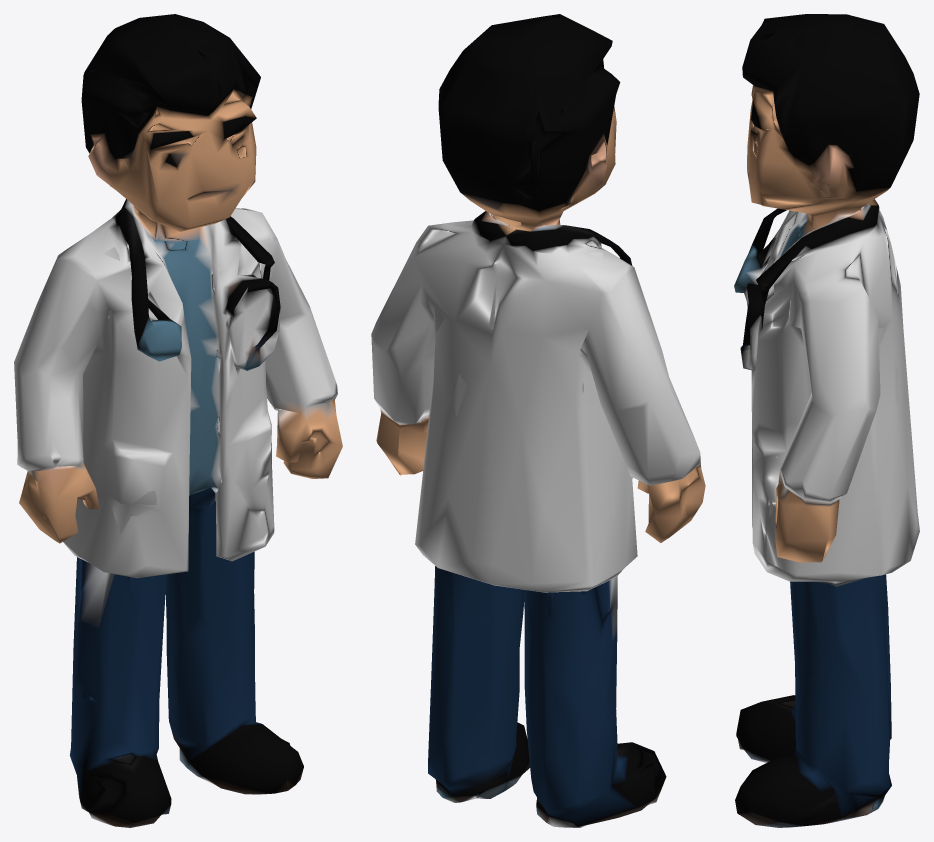
Rendered from gen3d-doctor-lod0.glb.
The picture shows the model from 3 angles, left to right: view 1: azimuth 30°, elevation 25°; view 2: azimuth 150°, elevation 25°; view 3: azimuth 270°, elevation 25°; orthographic projection.
Visible parts, largest first — view 1: part_0; view 2: part_0; view 3: part_0.
Boxes of the visible parts, x1,y1,x2,y2 form: part_0: (14,14,342,827); part_0: (371,14,705,827); part_0: (734,14,919,827).
Bounding box in the file's own units: 0.4339 × 0.9975 × 0.222.
